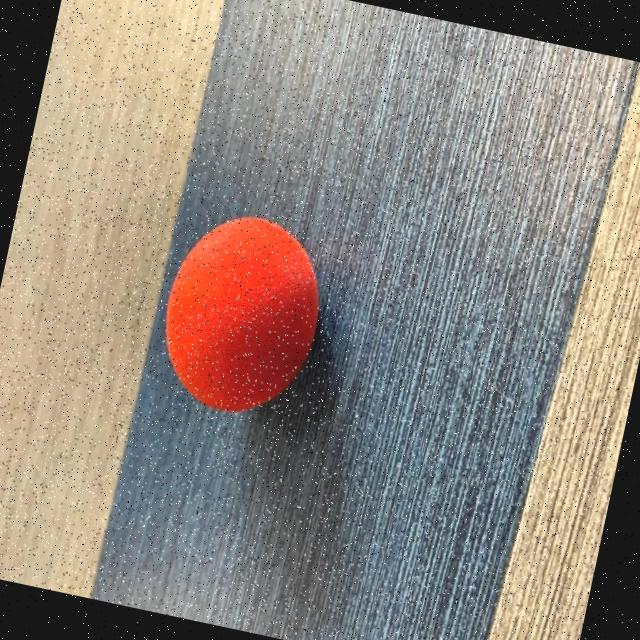ping-pong-ball: (149, 201, 339, 426)
